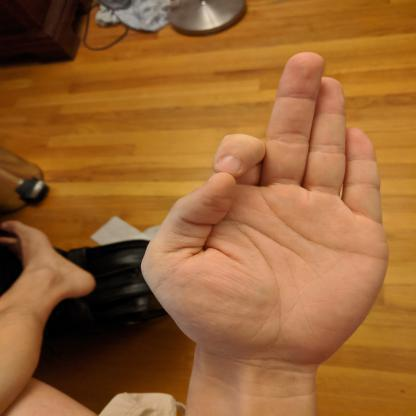F: (135, 48, 394, 372)
